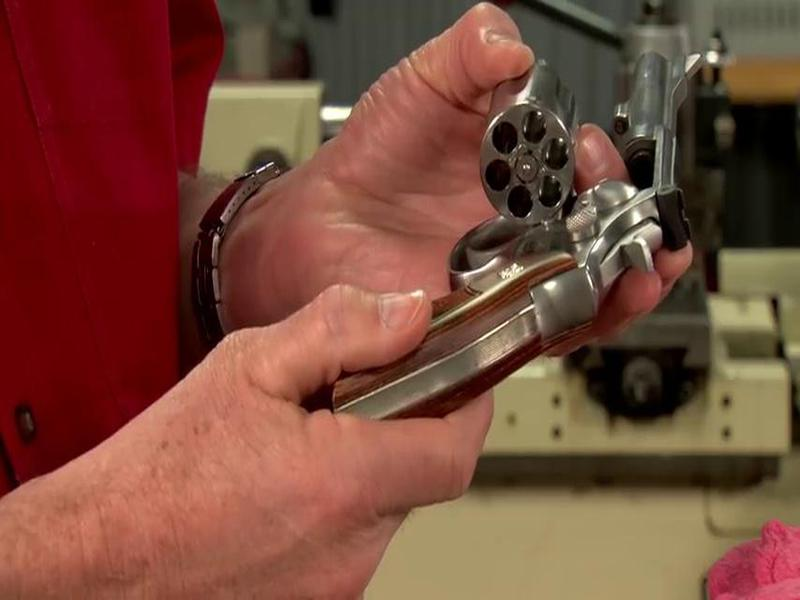Revolver: (337, 35, 711, 426)
